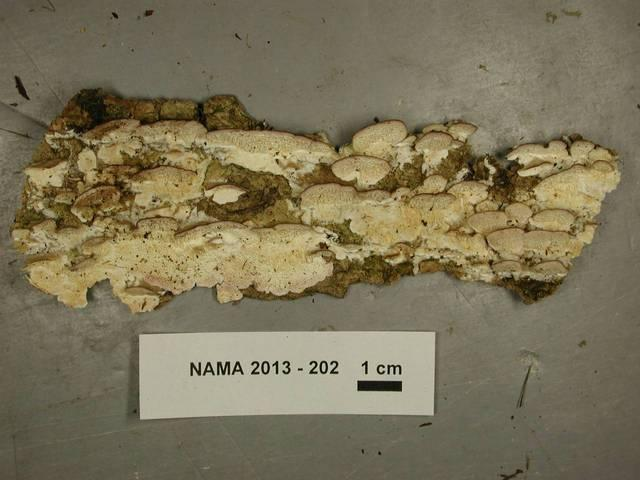Non-edible Mushroom: (10, 87, 621, 314)
